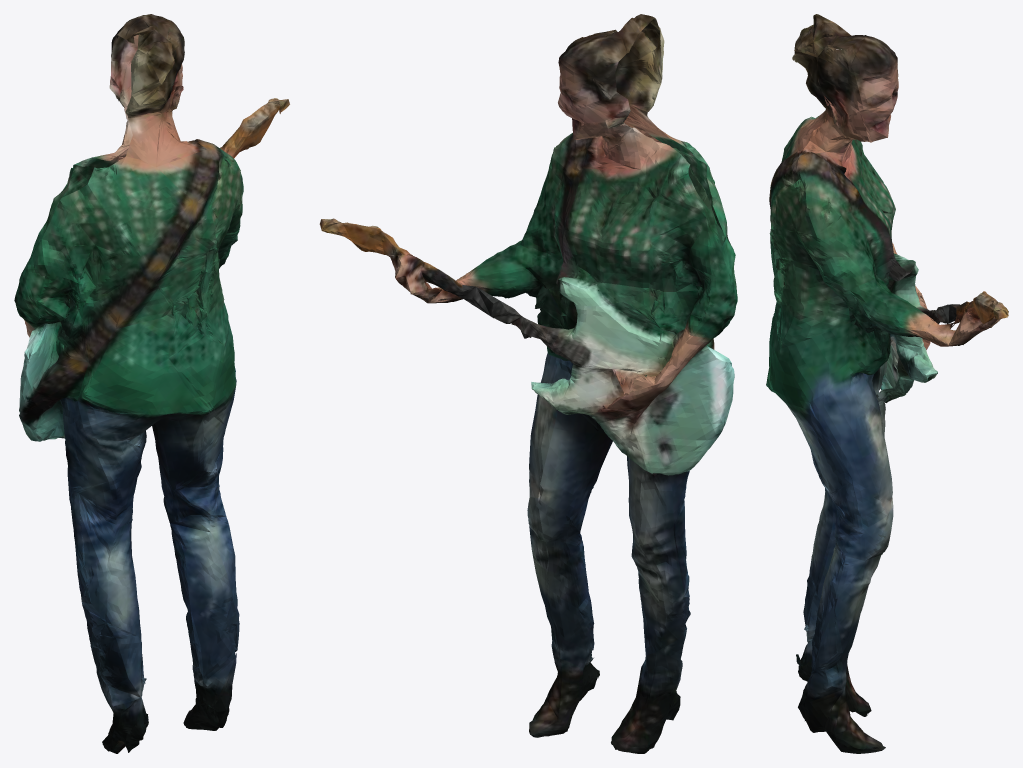
3 renders of one model, left to right at view 1: azimuth 30°, elevation 25°; view 2: azimuth 150°, elevation 25°; view 3: azimuth 270°, elevation 25°, orthographic. The views are drawn at different scales.
Visible parts, largest first — view 1: dec_0009; view 2: dec_0009; view 3: dec_0009.
Boxes of the visible parts, x1,y1,x2,y2 form: dec_0009: [14, 14, 289, 753]; dec_0009: [319, 14, 737, 753]; dec_0009: [766, 14, 1008, 753].
Size of the model in its own units: 0.8487 by 1.72 by 0.5391.
1 material, 1 textured.
